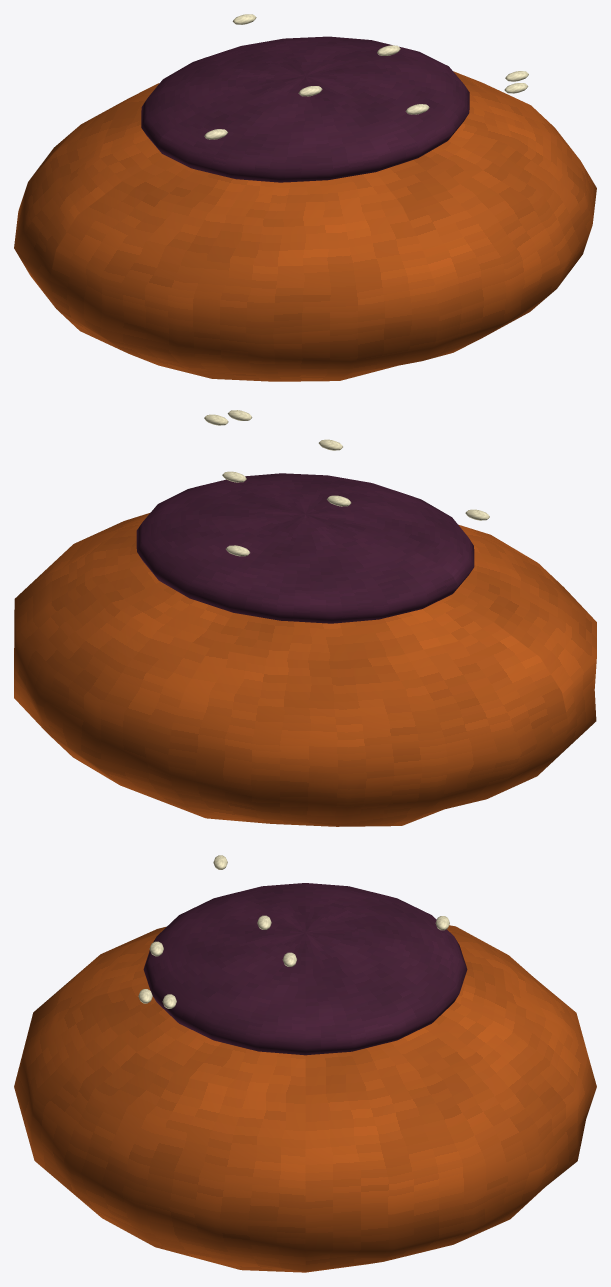
The model's file is bread_salt_anko.glb.
3 views of the same model, one above another, from view 1: azimuth 30°, elevation 25°; view 2: azimuth 150°, elevation 25°; view 3: azimuth 270°, elevation 25° (orthographic). The views are drawn at different scales.
Parts seen in each view (by area): view 1: ふっくらした生地.018, あんこ; view 2: ふっくらした生地.018, あんこ; view 3: ふっくらした生地.018, あんこ.
Part boxes in pixels (x1=…): ふっくらした生地.018: x1=14, y1=71, x2=596, y2=381; あんこ: x1=141, y1=36, x2=469, y2=182; ふっくらした生地.018: x1=14, y1=513, x2=596, y2=826; あんこ: x1=136, y1=473, x2=474, y2=623; ふっくらした生地.018: x1=14, y1=925, x2=596, y2=1272; あんこ: x1=143, y1=883, x2=467, y2=1055.
Size of the model in its own units: 0.7929 by 0.4041 by 0.72.
Materials: 3 (3 with a texture image).
